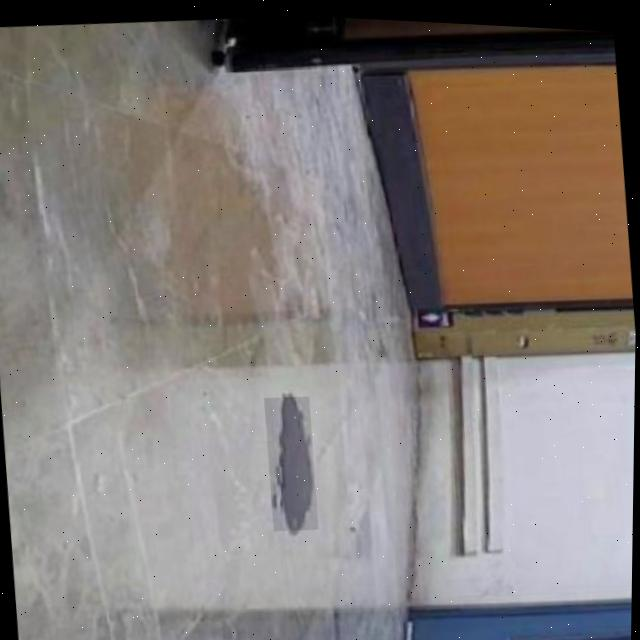spillage: (270, 393, 311, 526)
